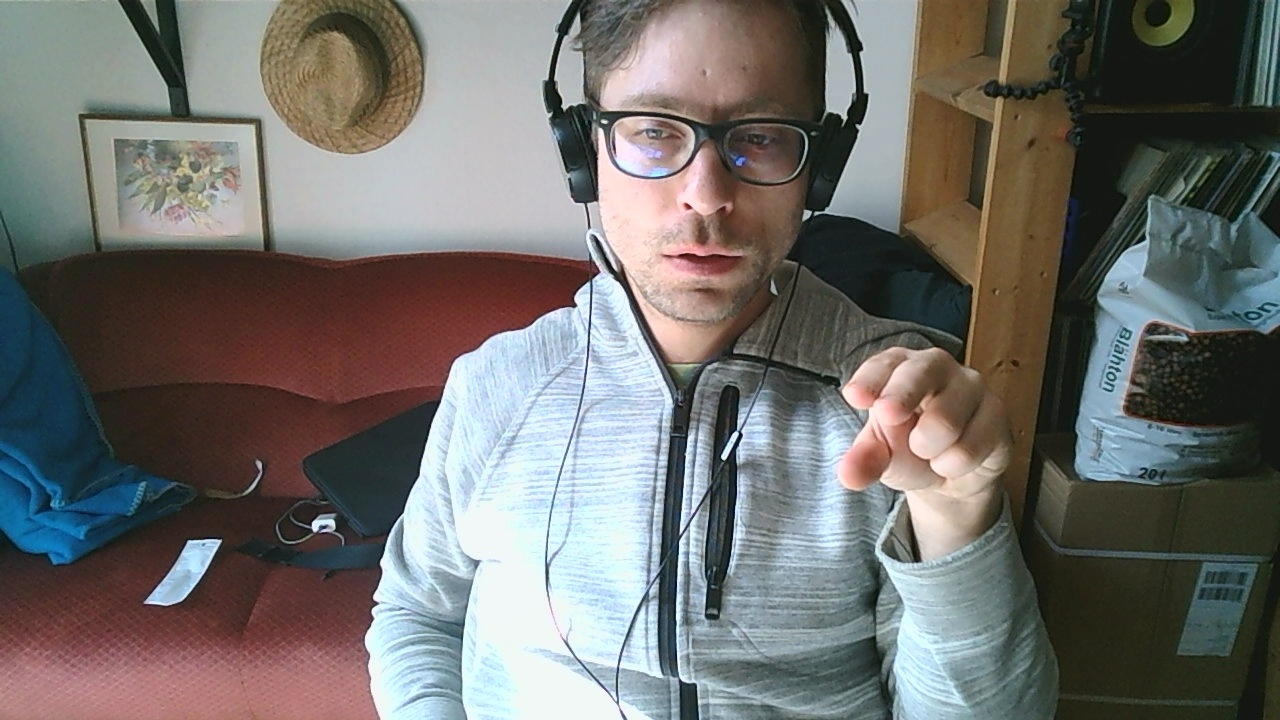no: (833, 347, 1018, 498)
